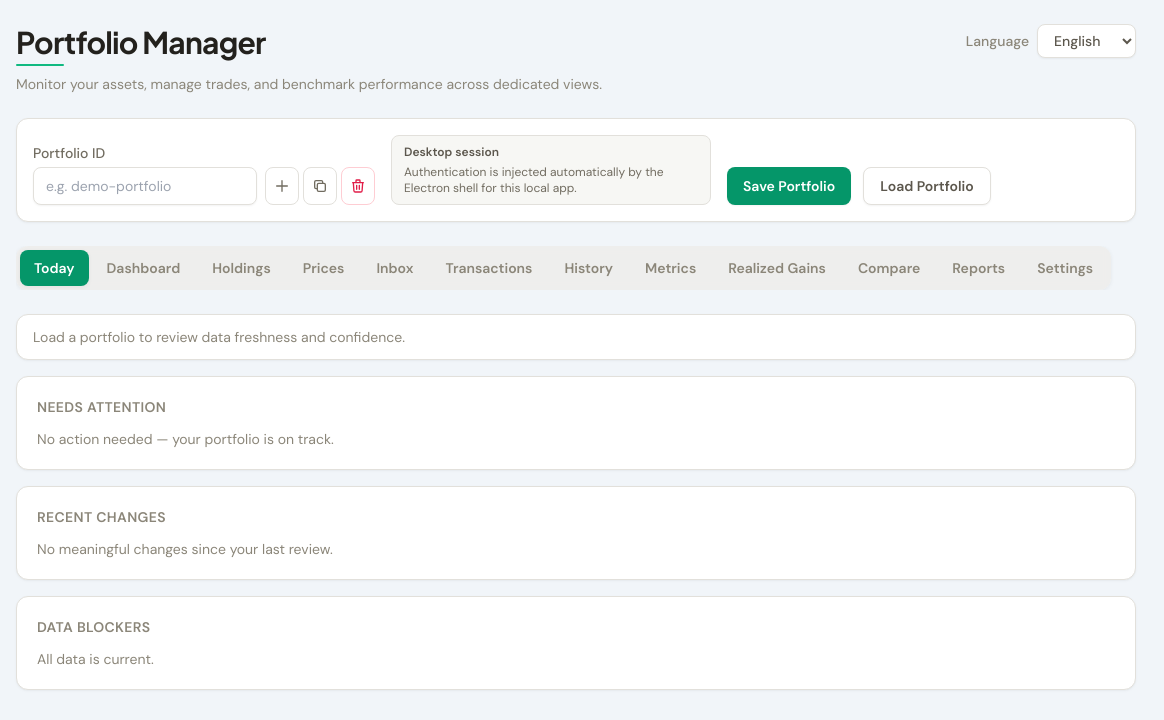
Test: PortfolioManagerApp shell › language switch changes the UI language
The width and height of the screenshot is (1164, 720).
Select "Spanish" in the dropdown labelled "Language" at (1086, 41), box [1037, 24, 1136, 58]
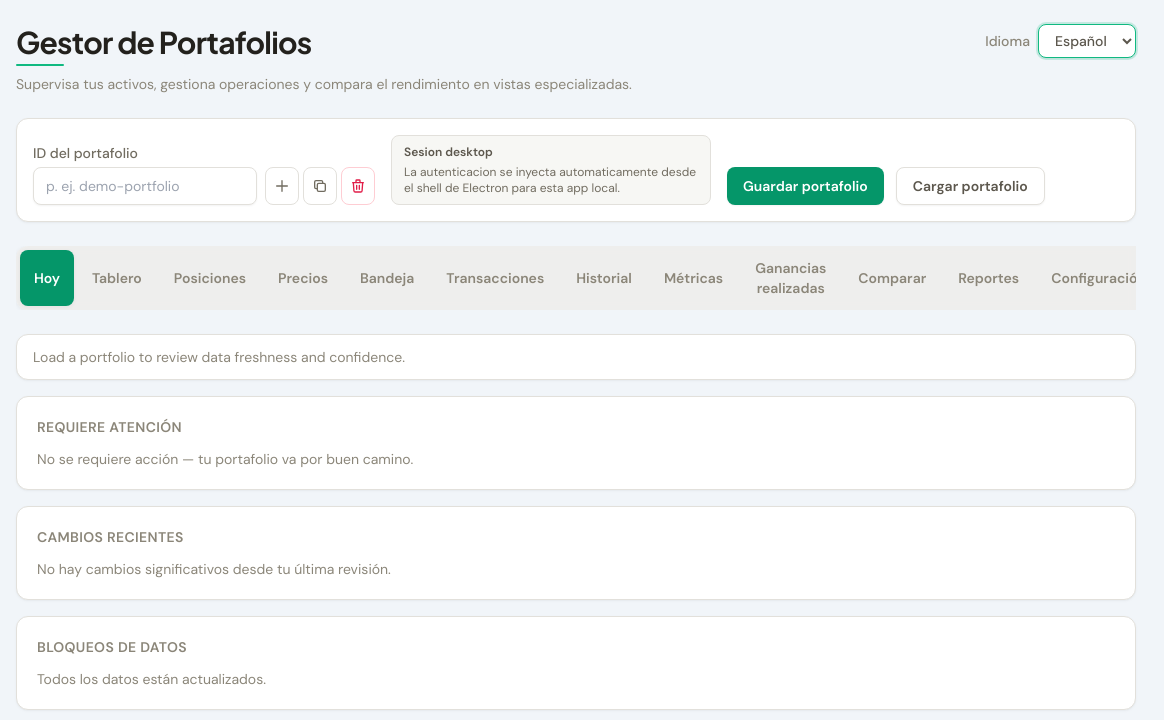
Expected: the heading "Gestor de Portafolios" is shown, [16, 23, 312, 61]
